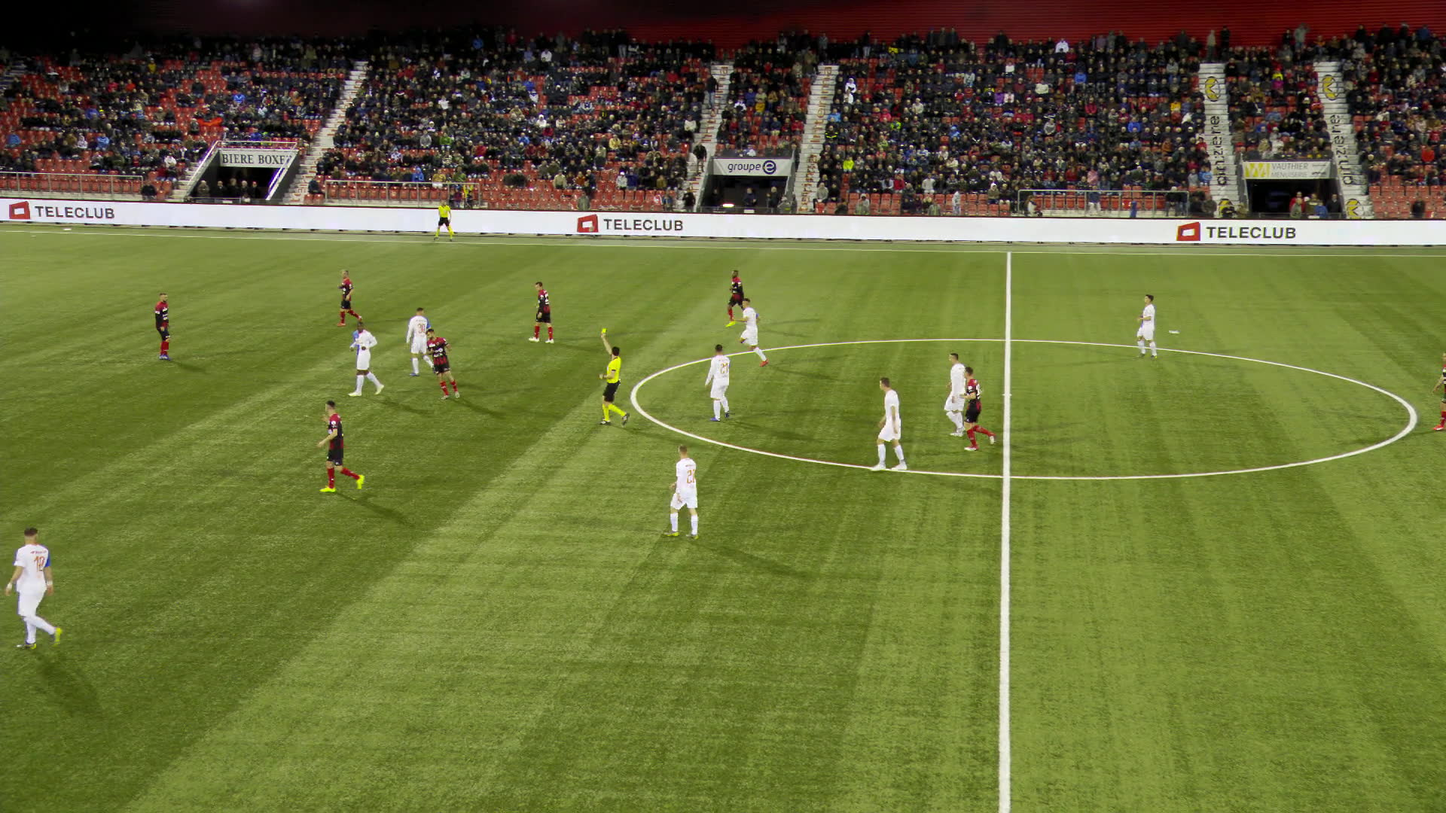ball: (715, 352, 725, 360)
player: (3, 526, 60, 649), (318, 398, 365, 495), (660, 443, 704, 540), (870, 375, 908, 470), (959, 367, 995, 452), (349, 319, 384, 397), (423, 327, 459, 400), (703, 343, 731, 421), (1132, 295, 1166, 358), (404, 307, 435, 376), (738, 297, 768, 368), (944, 351, 966, 438), (151, 292, 177, 361), (526, 280, 554, 343), (336, 268, 362, 325), (723, 269, 747, 327), (1429, 348, 1445, 429)
referee: (596, 327, 629, 425), (433, 199, 453, 241)
